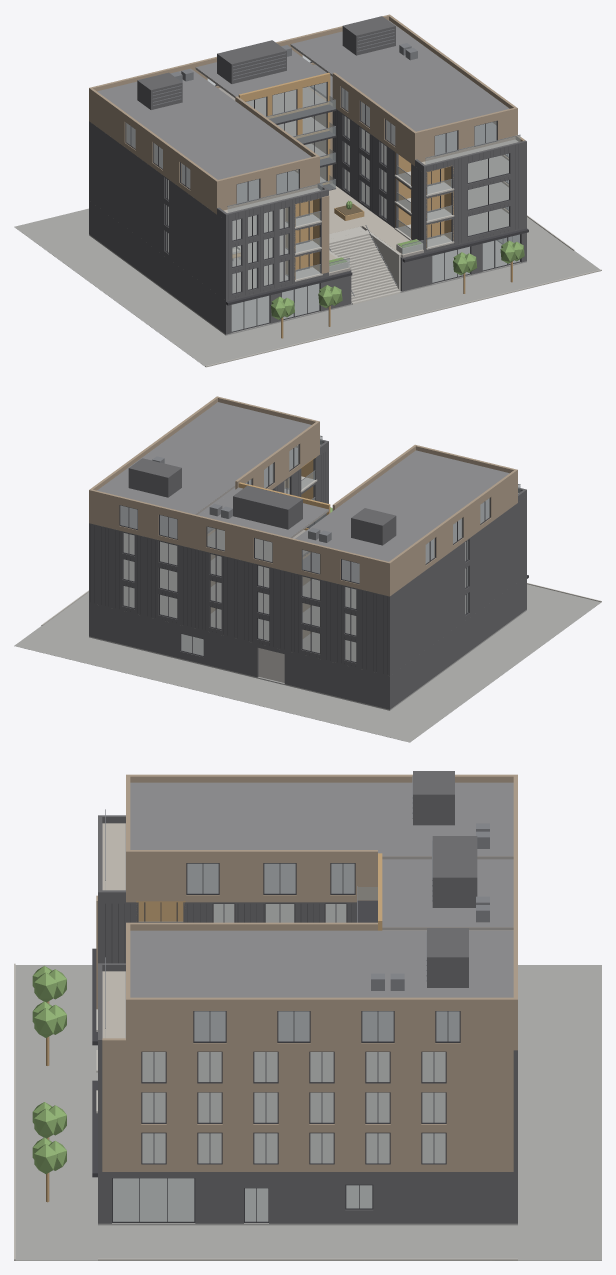
File: clay-courtyard-mixed-use-midrise-clay-v004.glb
The picture shows the model from 3 angles, top to bottom: view 1: azimuth 30°, elevation 25°; view 2: azimuth 150°, elevation 25°; view 3: azimuth 270°, elevation 25°; orthographic projection. The views are drawn at different scales.
Parts seen in each view (by area): view 1: CLAY_WALL, CLAY_MEMBRANE, CLAY_FOUNDATION, CLAY_GLASS, CLAY_TAN, CLAY_FLOOR, CLAY_TRIM, CLAY_CONCRETE, CLAY_CEDAR, CLAY_SAND, CLAY_HARDWARE, CLAY_PLANTING (+3 smaller); view 2: CLAY_WALL, CLAY_MEMBRANE, CLAY_FOUNDATION, CLAY_TAN, CLAY_GLASS, CLAY_FLOOR, CLAY_TRIM, CLAY_JOINT, CLAY_PALE, CLAY_CEDAR, CLAY_HARDWARE; view 3: CLAY_TAN, CLAY_FOUNDATION, CLAY_MEMBRANE, CLAY_WALL, CLAY_GLASS, CLAY_FLOOR, CLAY_TRIM, CLAY_PLANTING, CLAY_SAND, CLAY_STONE, CLAY_HARDWARE, CLAY_CEDAR.
Part boxes in pixels (<box>): CLAY_WALL: <box>89,16,526,334</box>; CLAY_MEMBRANE: <box>97,20,509,203</box>; CLAY_FOUNDATION: <box>14,208,600,366</box>; CLAY_GLASS: <box>126,55,520,331</box>; CLAY_TAN: <box>89,14,525,273</box>; CLAY_FLOOR: <box>166,44,508,293</box>; CLAY_TRIM: <box>125,61,528,332</box>; CLAY_CONCRETE: <box>286,171,454,304</box>; CLAY_CEDAR: <box>238,72,453,279</box>; CLAY_SAND: <box>224,139,517,273</box>; CLAY_HARDWARE: <box>152,29,520,296</box>; CLAY_PLANTING: <box>270,200,524,319</box>; CLAY_WALL: <box>89,439,526,709</box>; CLAY_MEMBRANE: <box>97,402,509,582</box>; CLAY_FOUNDATION: <box>14,584,600,742</box>; CLAY_TAN: <box>89,396,517,638</box>; CLAY_GLASS: <box>120,436,520,661</box>; CLAY_FLOOR: <box>123,482,467,661</box>; CLAY_TRIM: <box>119,444,528,662</box>; CLAY_JOINT: <box>90,452,387,674</box>; CLAY_PALE: <box>258,648,284,682</box>; CLAY_CEDAR: <box>238,456,330,555</box>; CLAY_HARDWARE: <box>152,435,520,542</box>; CLAY_TAN: <box>96,774,517,1171</box>; CLAY_FOUNDATION: <box>14,965,601,1260</box>; CLAY_MEMBRANE: <box>102,782,513,1041</box>; CLAY_WALL: <box>98,771,517,1223</box>; CLAY_GLASS: <box>105,863,459,1221</box>; CLAY_FLOOR: <box>142,856,513,1163</box>; CLAY_TRIM: <box>92,863,460,1222</box>; CLAY_PLANTING: <box>32,966,66,1173</box>; CLAY_SAND: <box>102,823,125,1038</box>; CLAY_STONE: <box>14,963,517,1260</box>; CLAY_HARDWARE: <box>105,775,489,1028</box>; CLAY_CEDAR: <box>136,853,382,930</box>.
Size of the model in its own units: 50 by 19.72 by 42.
